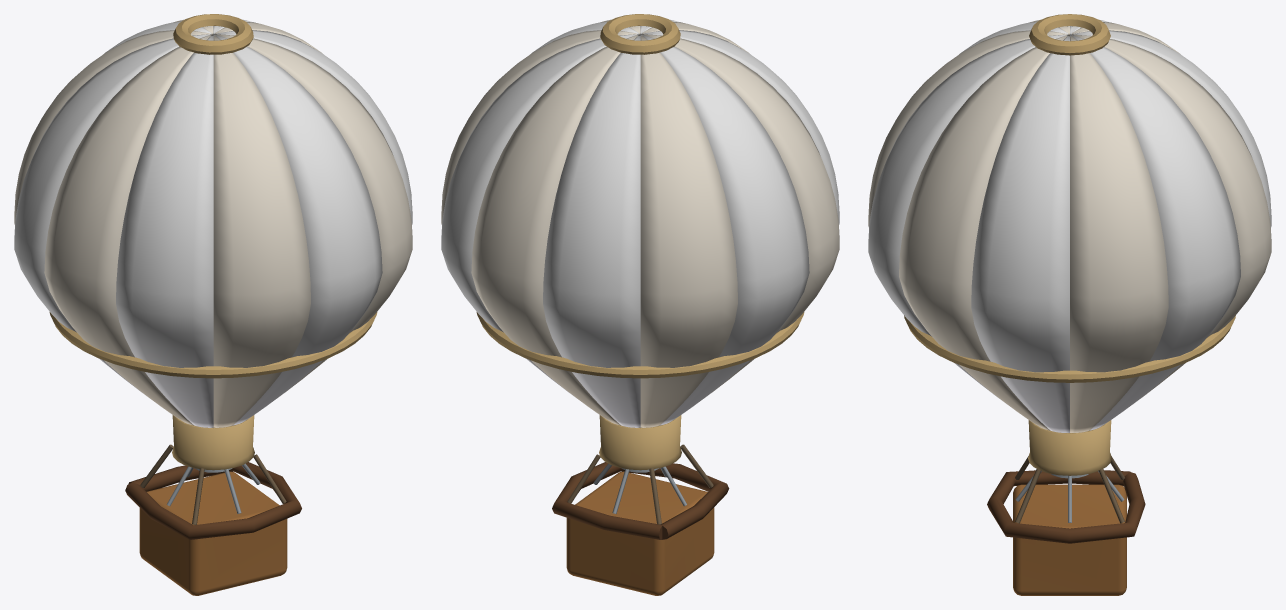
The model's file is globo.glb.
3 views of the same model, side by side, from view 1: azimuth 30°, elevation 25°; view 2: azimuth 150°, elevation 25°; view 3: azimuth 270°, elevation 25° (orthographic).
Visible parts, largest first — view 1: envelope_trim, envelope_color, basket; view 2: envelope_trim, envelope_color, basket; view 3: envelope_trim, envelope_color, basket.
Boxes of the visible parts, box(x1,y1,x2,y2) form: envelope_trim: box(14, 14, 412, 470); envelope_color: box(14, 19, 412, 427); basket: box(125, 444, 301, 595); envelope_trim: box(441, 14, 839, 470); envelope_color: box(441, 19, 839, 427); basket: box(552, 444, 729, 595); envelope_trim: box(868, 14, 1271, 475); envelope_color: box(868, 19, 1271, 432); basket: box(987, 456, 1145, 595).
Bounding box in the file's own units: 2.76 × 4.12 × 2.76.
